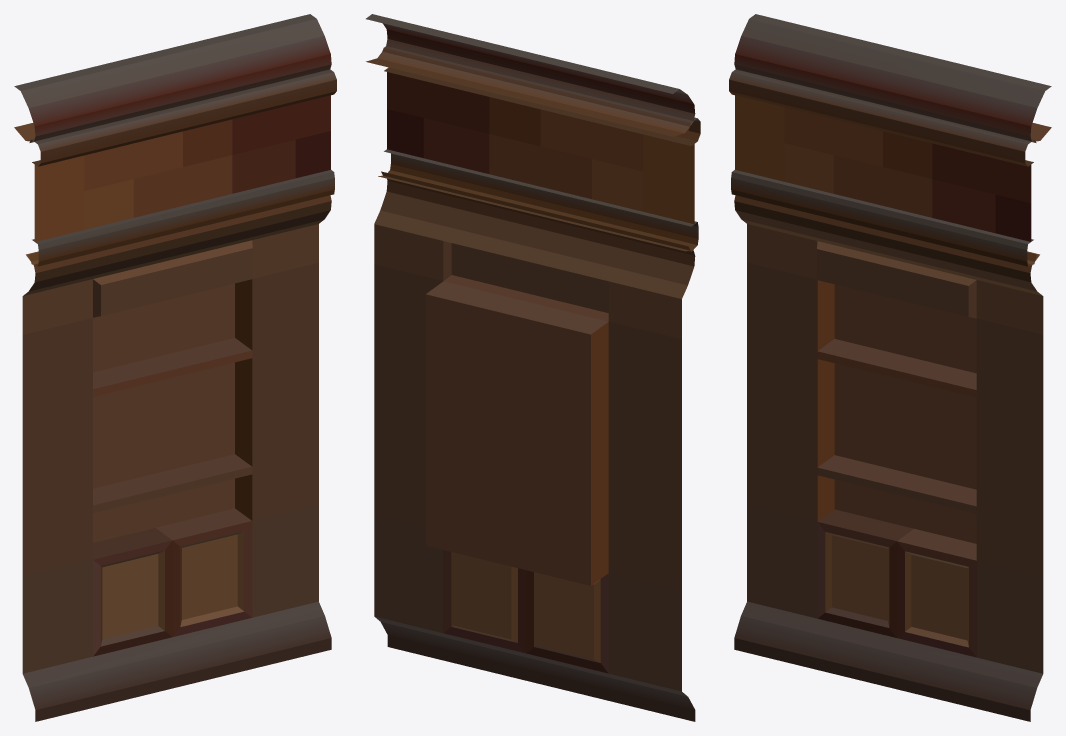
Rendered from Wall_HomeA-PanelC-2m.fbx.
3 renders of one model, left to right at view 1: azimuth 30°, elevation 25°; view 2: azimuth 150°, elevation 25°; view 3: azimuth 330°, elevation 25°, orthographic. The views are drawn at different scales.
Parts seen in each view (by area): view 1: Wall_HomeA-PanelC-2m; view 2: Wall_HomeA-PanelC-2m; view 3: Wall_HomeA-PanelC-2m.
Part boxes in pixels (x1,y1,x2,y2): Wall_HomeA-PanelC-2m: (14,14,336,721); Wall_HomeA-PanelC-2m: (366,14,700,721); Wall_HomeA-PanelC-2m: (729,14,1051,721).
Bounding box in the file's own units: 200 × 400 × 41.15.
